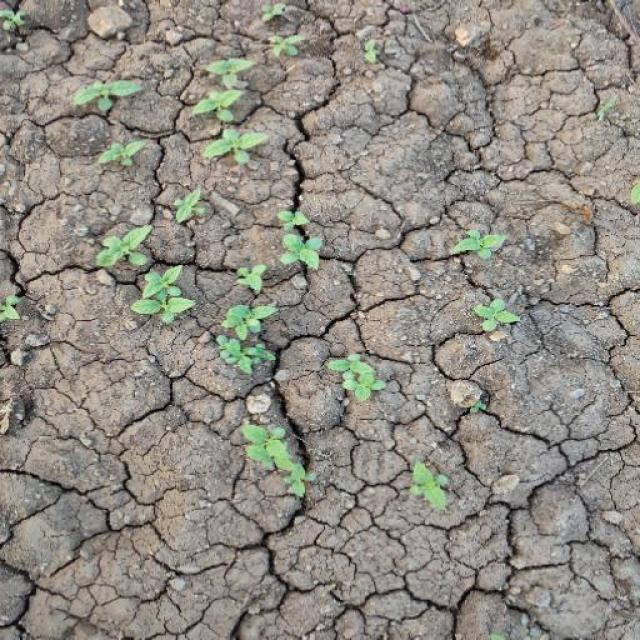crop: (86, 219, 196, 329), (234, 422, 322, 500), (214, 298, 286, 374), (272, 208, 328, 274), (68, 69, 148, 111), (466, 284, 519, 344), (330, 352, 386, 406), (409, 457, 460, 515), (449, 222, 506, 266), (85, 132, 149, 170), (196, 130, 269, 158)
